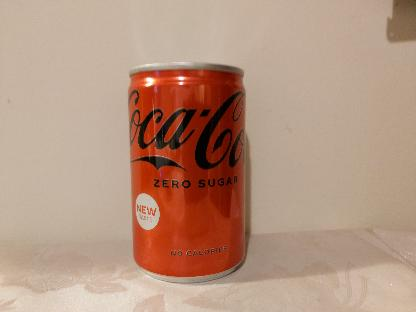Can: (126, 60, 248, 284)
